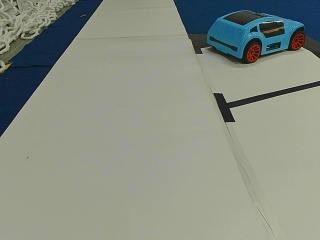car: (205, 10, 304, 62)
